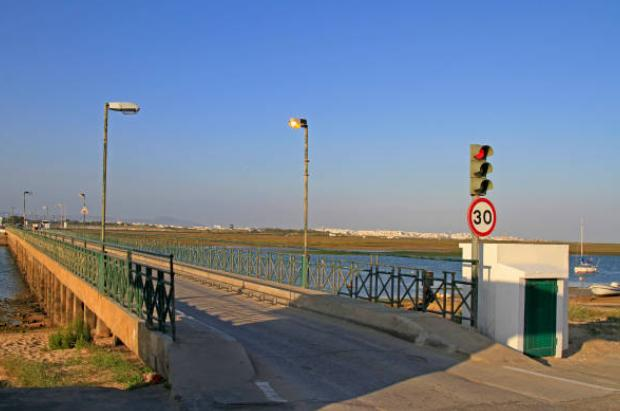red_light: (470, 144, 493, 196)
